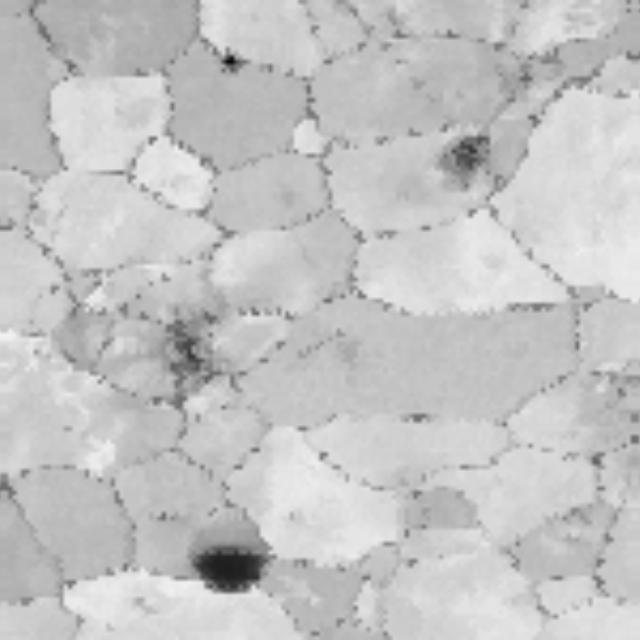good_void: (147, 289, 235, 428), (409, 106, 515, 205), (473, 44, 545, 116), (183, 546, 273, 598), (205, 52, 254, 103), (122, 587, 162, 628), (393, 404, 447, 429)
